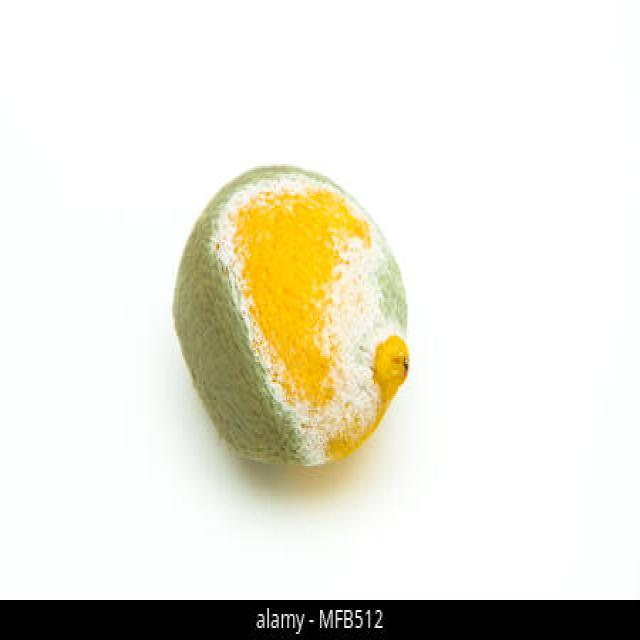Rotten: (175, 163, 412, 468)
